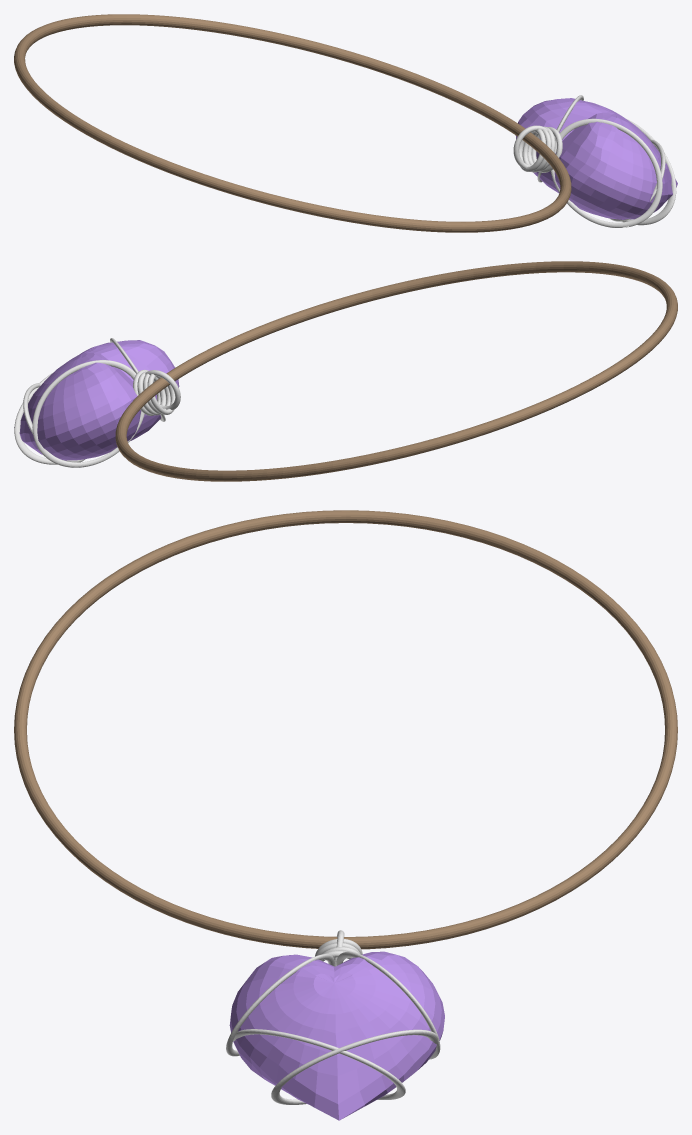
File: diamondprincess1.glb
3 renders of one model, top to bottom at view 1: azimuth 30°, elevation 25°; view 2: azimuth 150°, elevation 25°; view 3: azimuth 270°, elevation 25°, orthographic. The views are drawn at different scales.
Visible parts, largest first — view 1: Torus.005, Sphere.002, ropex3, ropex2, Torus.001; view 2: Torus.005, Sphere.002, ropex4, ropex, Torus.001; view 3: Sphere.002, Torus.005, ropex2, ropex.
Boxes of the visible parts, left/top/right/bottom form: Torus.005: left=14, top=14, right=571, bottom=232; Sphere.002: left=515, top=98, right=677, bottom=219; ropex3: left=550, top=118, right=662, bottom=227; ropex2: left=622, top=119, right=676, bottom=225; Torus.001: left=513, top=125, right=547, bottom=168; Torus.005: left=115, top=261, right=677, bottom=481; Sphere.002: left=14, top=340, right=179, bottom=460; ropex4: left=32, top=360, right=144, bottom=467; ropex: left=14, top=372, right=57, bottom=464; Torus.001: left=145, top=370, right=180, bottom=410; Sphere.002: left=229, top=951, right=444, bottom=1120; Torus.005: left=14, top=510, right=677, bottom=949; ropex2: left=271, top=1029, right=438, bottom=1104; ropex: left=233, top=1029, right=405, bottom=1099.
Bounding box in the file's own units: 7.7 × 2.86 × 6.16.
